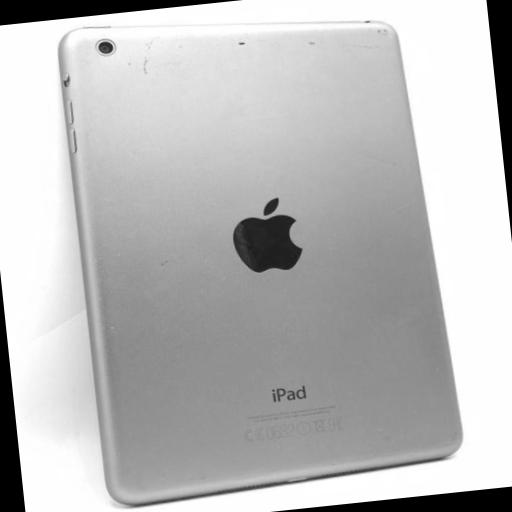phone: (60, 17, 467, 512)
